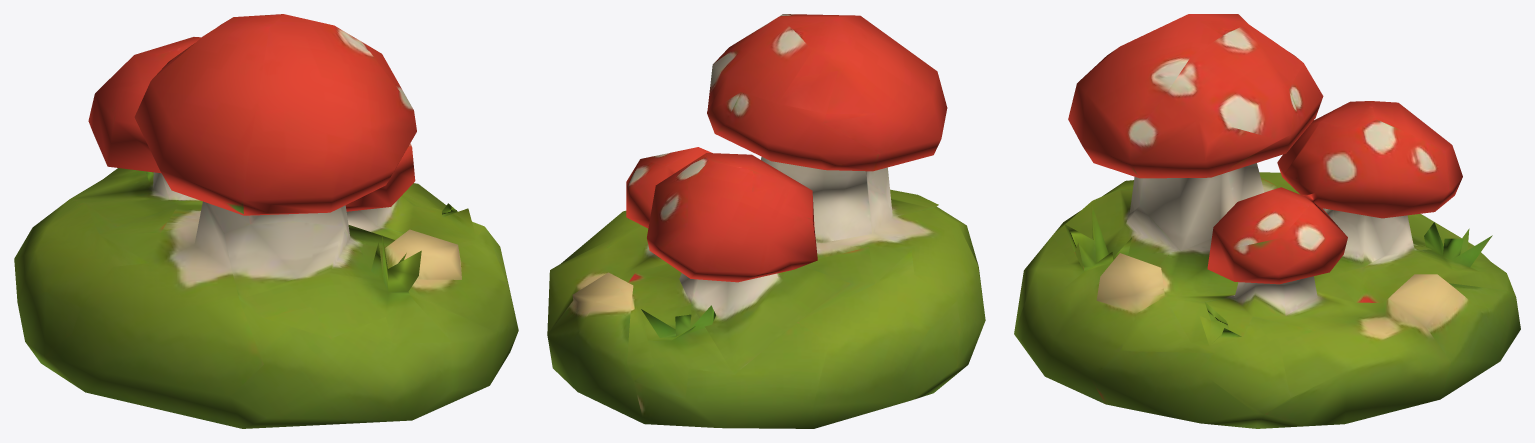
The model's file is mushrooms.glb.
3 renders of one model, left to right at view 1: azimuth 30°, elevation 25°; view 2: azimuth 150°, elevation 25°; view 3: azimuth 270°, elevation 25°, orthographic. The views are drawn at different scales.
Parts seen in each view (by area): view 1: tripo_node_7dff7279-40d5-4e89-a37c-578519e37037; view 2: tripo_node_7dff7279-40d5-4e89-a37c-578519e37037; view 3: tripo_node_7dff7279-40d5-4e89-a37c-578519e37037.
Part boxes in pixels (x1,y1,x2,y2): tripo_node_7dff7279-40d5-4e89-a37c-578519e37037: (14, 14, 518, 428); tripo_node_7dff7279-40d5-4e89-a37c-578519e37037: (547, 14, 985, 428); tripo_node_7dff7279-40d5-4e89-a37c-578519e37037: (1014, 14, 1520, 428).
Size of the model in its own units: 0.8968 by 0.6633 by 0.9987.
1 material, 1 textured.
